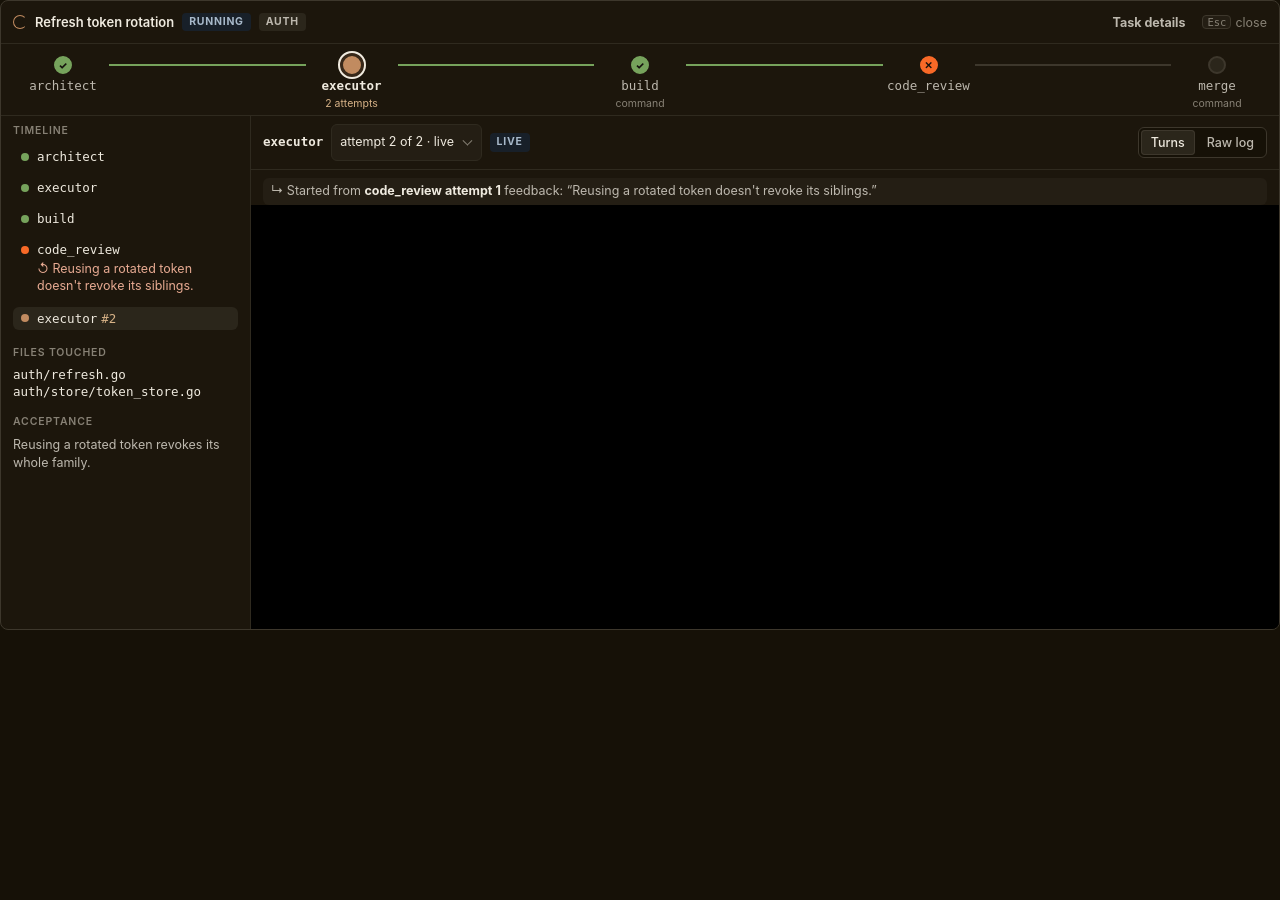
TaskLens › clicking a timeline entry opens that attempt
Click the button with aria-label "code_review, failed". click: click(126, 250)
box: left=21, top=242, right=230, bottom=257
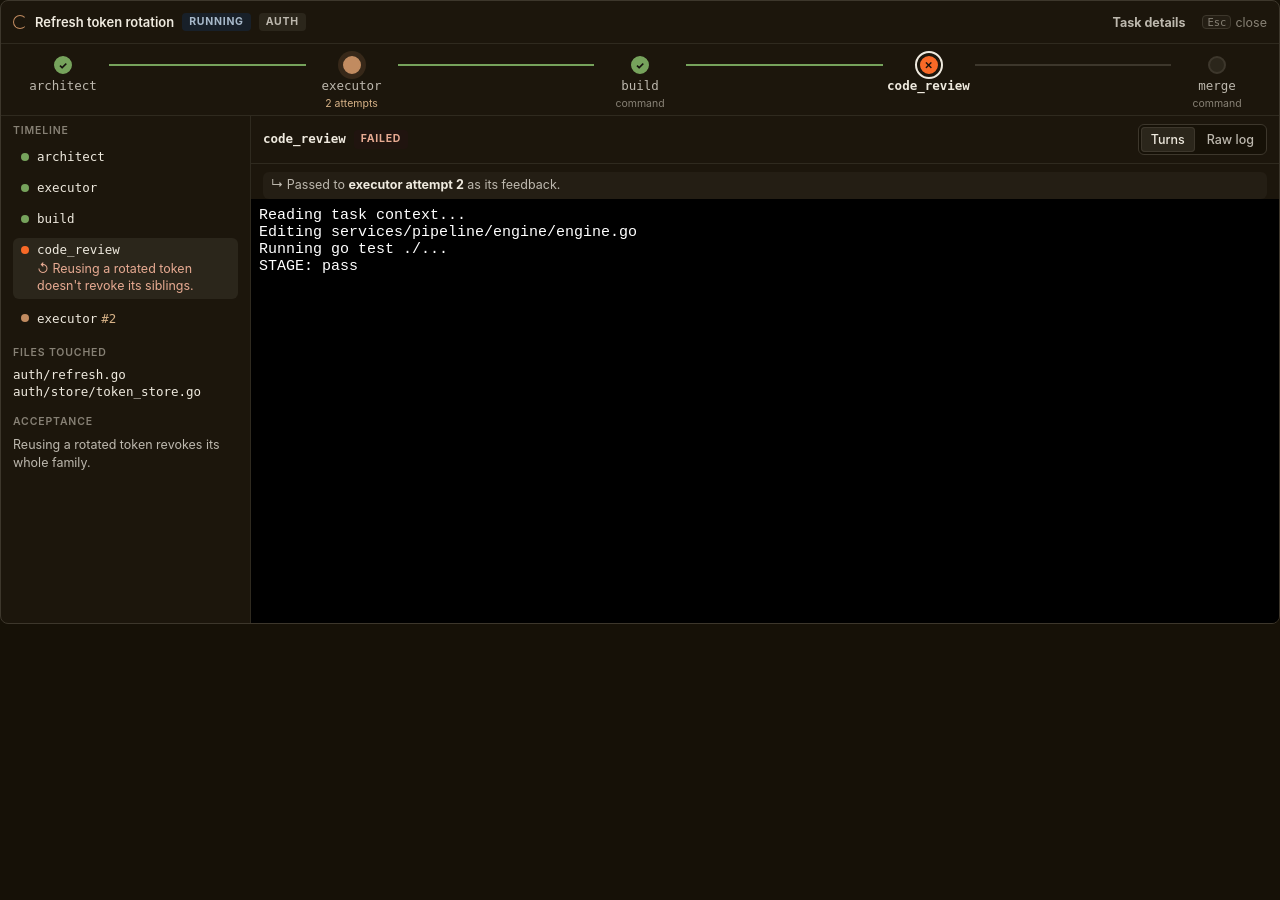
Check: the text "↳ Passed to executor attempt 2 as its feedback." is shown, box left=263, top=172, right=1267, bottom=199
